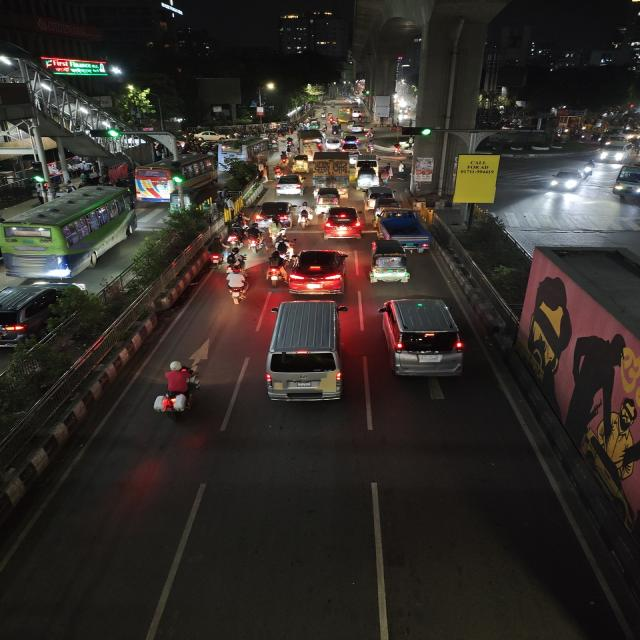bus: (0, 185, 138, 279), (134, 152, 218, 202), (219, 137, 269, 162), (611, 162, 640, 205), (296, 136, 324, 158)
car: (261, 298, 348, 406), (375, 294, 470, 386), (0, 276, 91, 351), (286, 246, 351, 298), (320, 204, 364, 241), (545, 167, 588, 194), (253, 199, 294, 227), (596, 138, 631, 162), (364, 186, 399, 210), (273, 174, 305, 196), (313, 185, 343, 208), (340, 142, 360, 155), (341, 134, 361, 146), (323, 138, 342, 150)
cng: (368, 240, 412, 286), (356, 171, 379, 189), (290, 154, 310, 174)
motorcycle: (150, 358, 208, 422), (222, 266, 250, 308), (204, 236, 228, 269), (265, 254, 288, 288), (244, 224, 266, 254), (226, 246, 248, 270), (272, 238, 294, 262), (297, 204, 315, 228), (582, 159, 598, 179), (390, 142, 404, 156), (278, 152, 290, 166), (365, 141, 376, 155)
pedestrian: (395, 161, 408, 179), (381, 169, 390, 187)
pickup_van: (375, 208, 435, 253)
truck: (311, 155, 350, 189)
